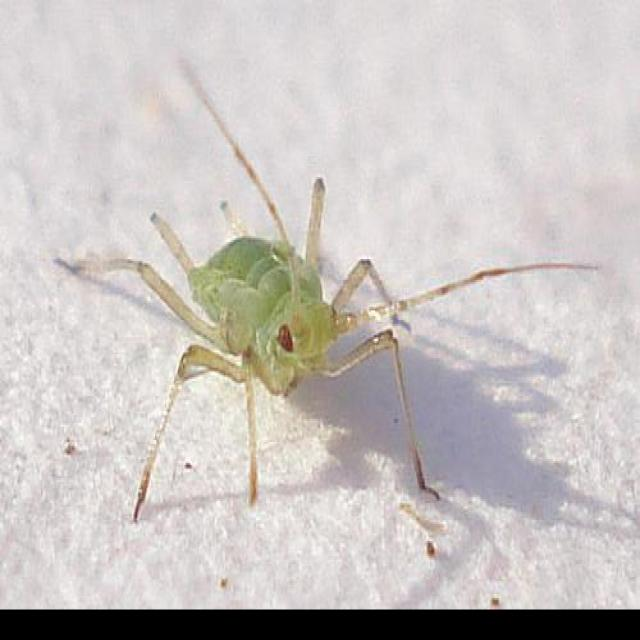Aphids: (105, 149, 539, 514)
